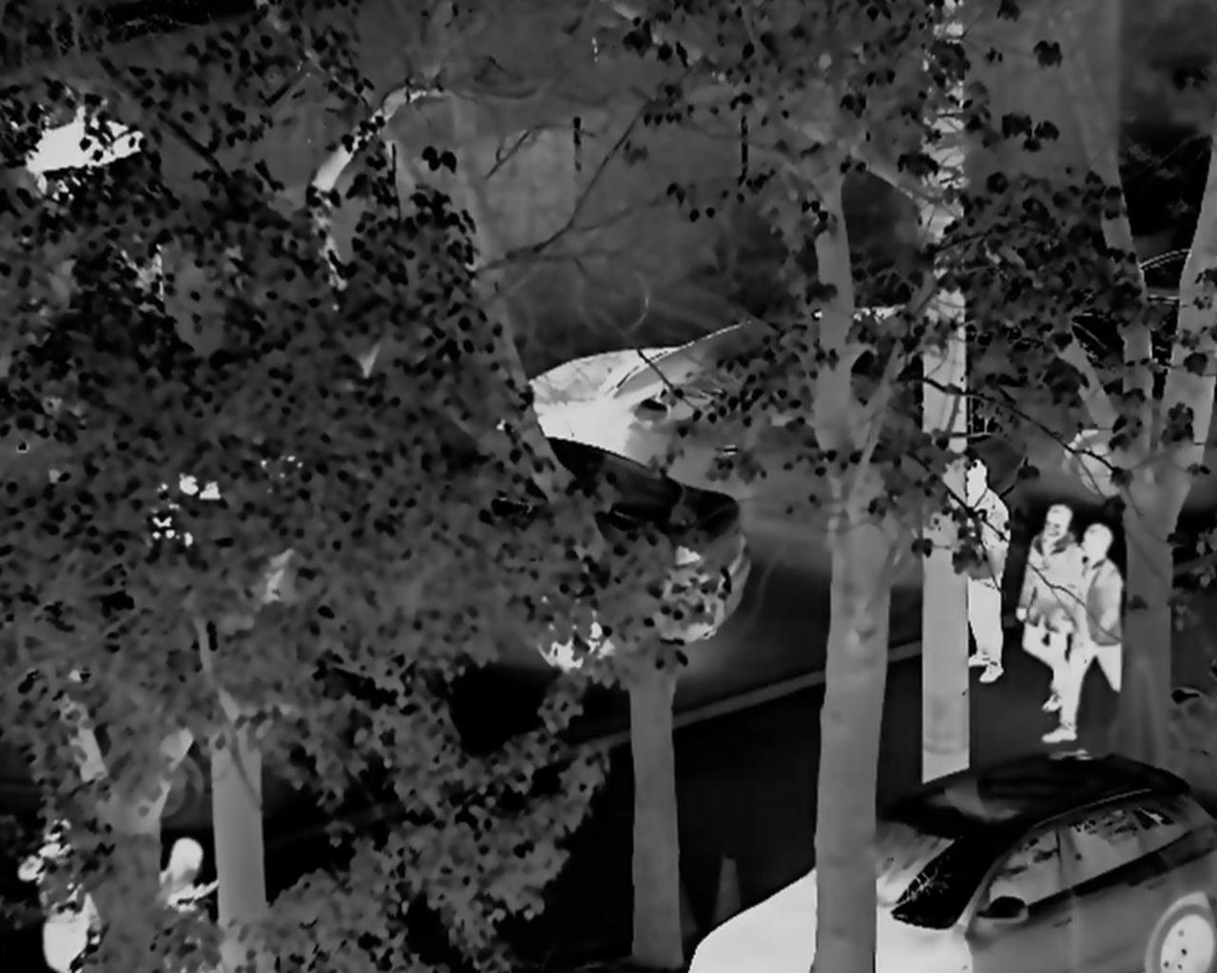person: (1055, 529, 1154, 754), (1014, 499, 1078, 710), (19, 822, 106, 972), (952, 454, 1006, 689), (135, 831, 226, 955)
